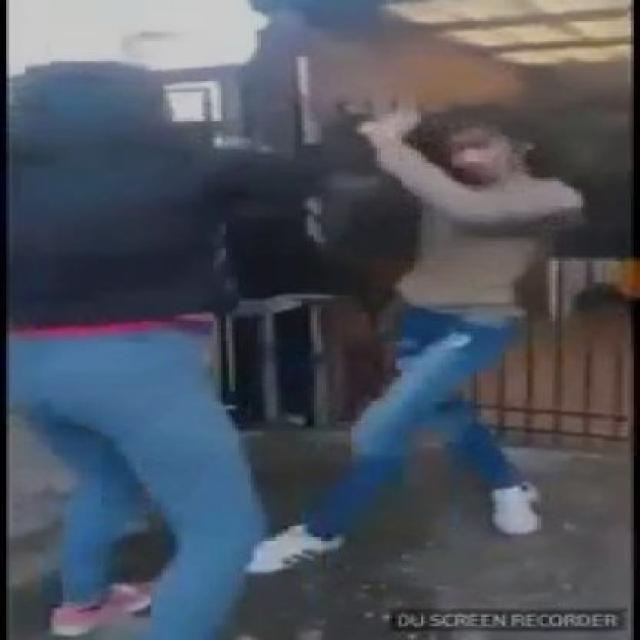fight: (0, 58, 595, 640)
